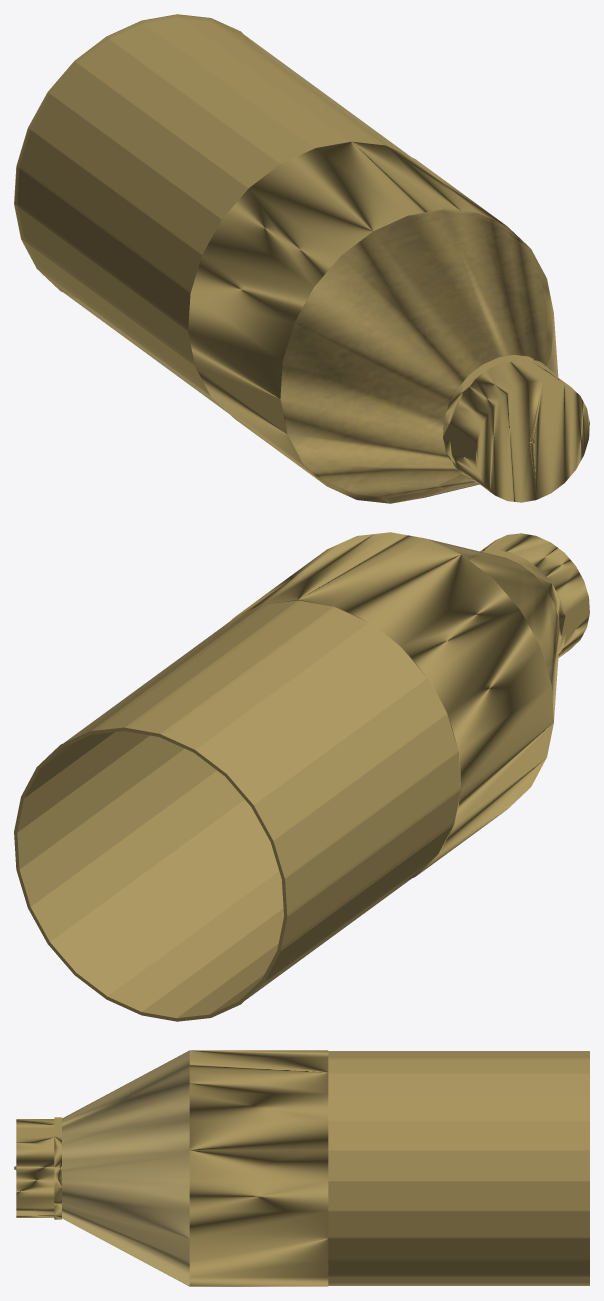
Rendered from model_align.obj.
3 views of the same model, one above another, from view 1: azimuth 30°, elevation 25°; view 2: azimuth 150°, elevation 25°; view 3: azimuth 270°, elevation 25° (orthographic). The views are drawn at different scales.
Bounding box in the file's own units: 0.054 × 0.054 × 0.1311.
